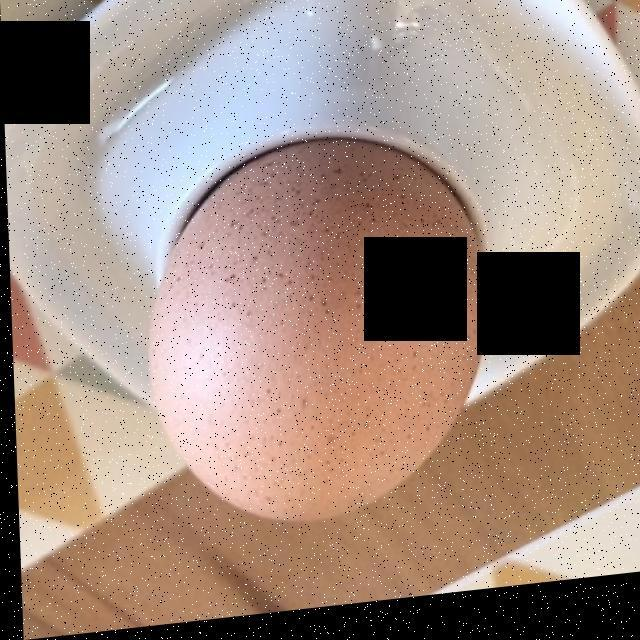egg: (152, 156, 490, 524)
